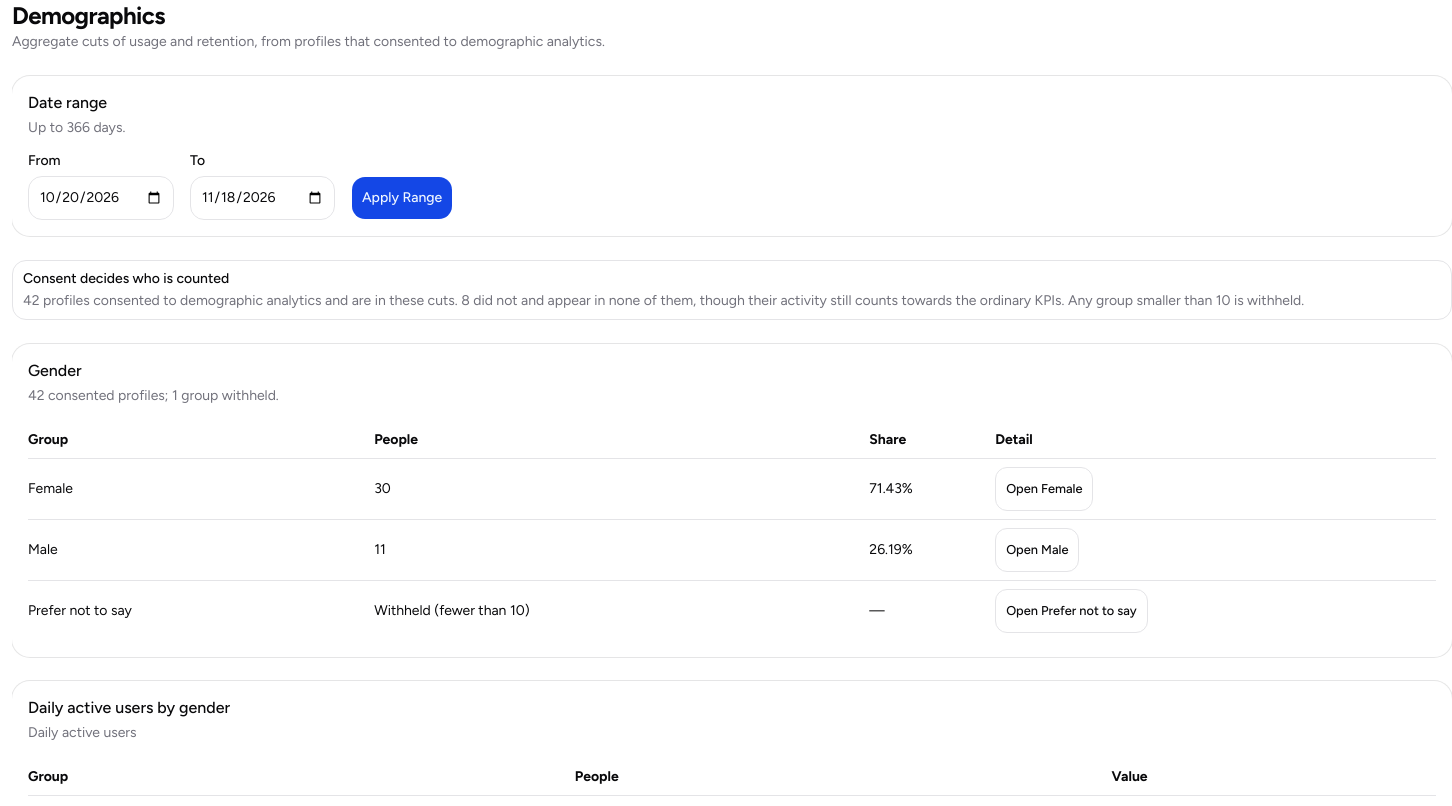
it: DemographicsDashboard › opens the drill-down for somebody who may see it
Click the button "Open Female". click: (1044, 489)
box: x1=995 y1=467 x2=1093 y2=511
(page scrolled)
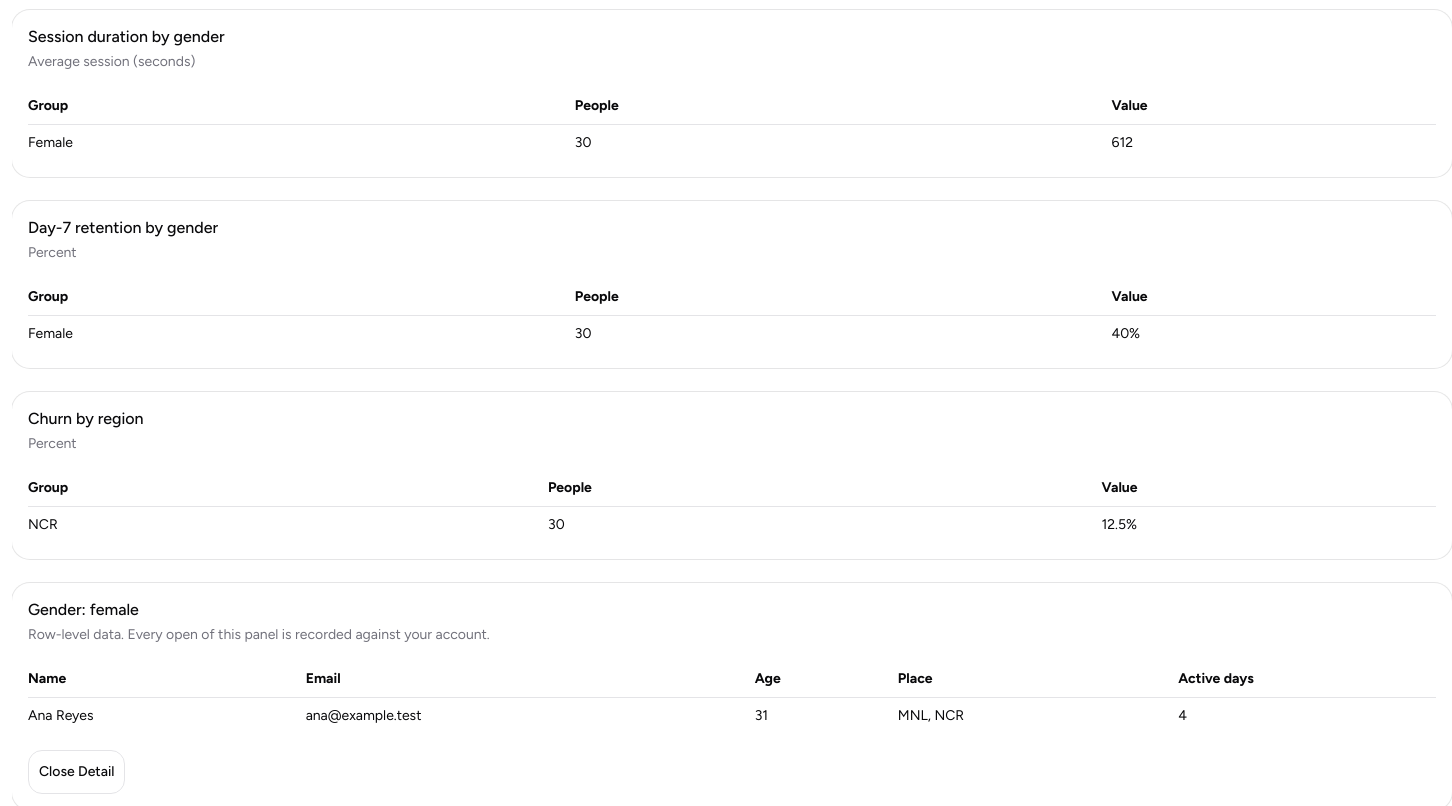
Now the text "ana@example.test" is shown, box x1=306 y1=698 x2=755 y2=734
Now the text "Every open of this panel is recorded against your account" is shown, box x1=28 y1=626 x2=490 y2=643
